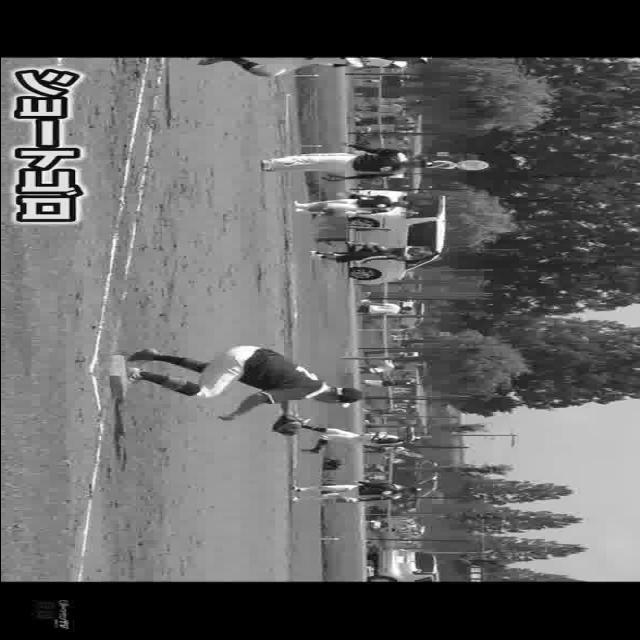base: (99, 354, 132, 399)
baseball_glove: (264, 412, 310, 438), (321, 173, 346, 185)
shoe: (248, 154, 288, 178), (122, 364, 146, 394), (195, 55, 238, 71), (124, 346, 162, 364)
